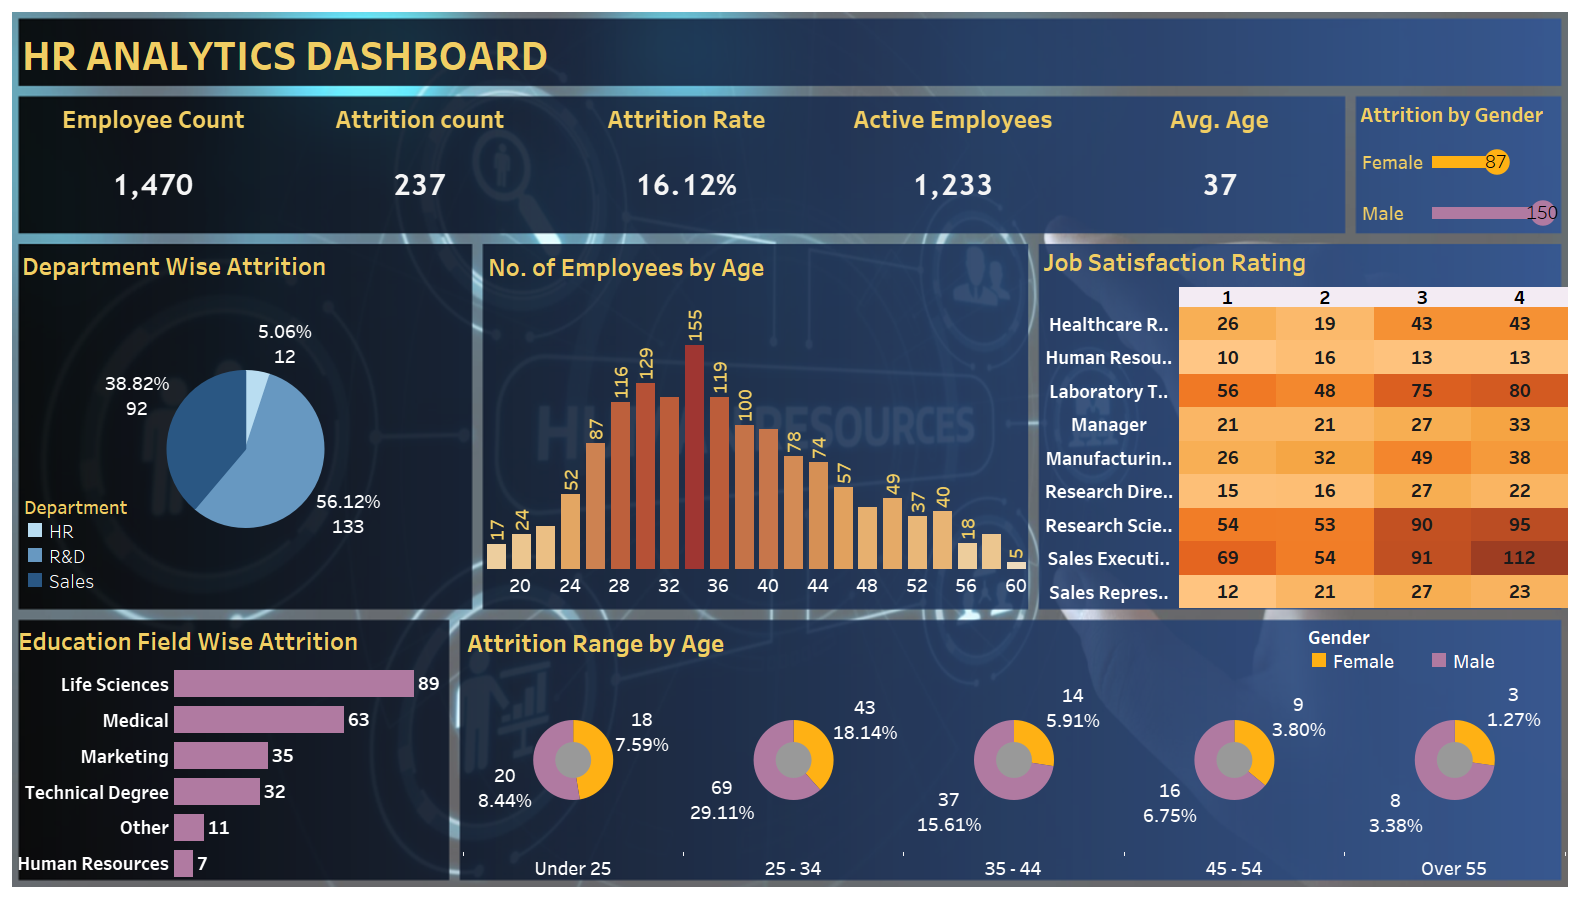

What the dashboard file says about the page in this screenshot:
{"tool":"tableau","page":{"name":"HR ANalytics dashboard","canvas":[1580,900],"ordinal":0},"visuals":[{"type":"image","param":"Image/HR background.pptx.png","box":[8,8,1564,884]},{"type":"text","box":[18,12,899,84]},{"type":"worksheet","title":"Attrition By Gender","mark":"Automatic","rows":["Gender"],"cols":["Calculation_1361775992679575553","Calculation_1361775992679575553"],"box":[1356,94,206,144]},{"type":"worksheet","title":"KPI","mark":"Automatic","box":[20,95,1333,140]},{"type":"worksheet","title":"Job Satisfactin","mark":"Square","rows":["Job Role"],"cols":["Job Satisfaction"],"box":[1039,239,529,369]},{"type":"worksheet","title":"Department wise Attrition","mark":"Pie","box":[18,243,455,364]},{"type":"worksheet","title":"number of Employee by agegroup","mark":"Automatic","rows":["Employee Count"],"cols":["Age (bin)"],"box":[484,244,545,366]},{"type":"legend","title":"Department wise Attrition","param":"[federated.0qlyg200at52zy1gh4psp1nz1kom].[none:Department:nk]","box":[23,492,118,115]},{"type":"worksheet","title":"Education Field Wise Attrition","mark":"Automatic","rows":["Education Field"],"cols":["Calculation_1361775992679575553"],"box":[14,618,443,263]},{"type":"worksheet","title":"Attrition range by gender","mark":"Pie","rows":["Calculation_1361775992731549703","Calculation_1361775992731549703"],"cols":["CF_age band"],"box":[463,620,1102,263]},{"type":"legend","title":"Attrition range by gender","param":"[federated.0qlyg200at52zy1gh4psp1nz1kom].[none:Gender:nk]","box":[1307,622,254,62]}]}

Visuals, with their boxes in screenshot pixels (x1, y1, x2, y2), scaled from the page's 1580x900 canvas onto the 1580x900 screenshot:
image: bbox=[8, 8, 1572, 892]
text: bbox=[18, 12, 917, 96]
"Attrition By Gender" worksheet: bbox=[1356, 94, 1562, 238]
"KPI" worksheet: bbox=[20, 95, 1353, 235]
"Job Satisfactin" worksheet (Square marks): bbox=[1039, 239, 1568, 608]
"Department wise Attrition" worksheet (Pie marks): bbox=[18, 243, 473, 607]
"number of Employee by agegroup" worksheet: bbox=[484, 244, 1029, 610]
"Department wise Attrition" legend: bbox=[23, 492, 141, 607]
"Education Field Wise Attrition" worksheet: bbox=[14, 618, 457, 881]
"Attrition range by gender" worksheet (Pie marks): bbox=[463, 620, 1565, 883]
"Attrition range by gender" legend: bbox=[1307, 622, 1561, 684]
